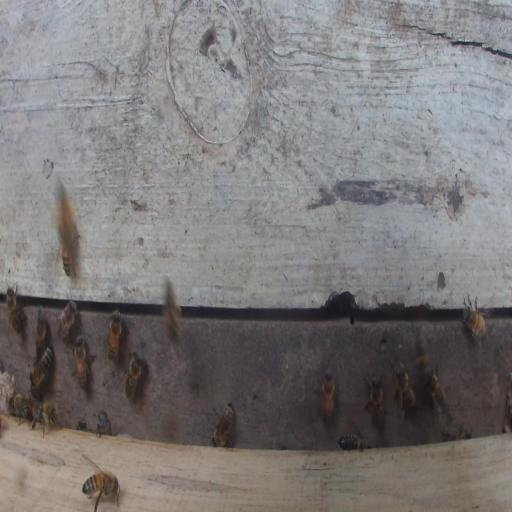nonpollenbee: (81, 469, 120, 510), (462, 294, 490, 347), (424, 368, 451, 422), (56, 184, 79, 245), (392, 359, 417, 414), (162, 275, 181, 341), (315, 368, 336, 426), (71, 335, 92, 391), (29, 346, 54, 390), (5, 281, 25, 336), (211, 401, 234, 448), (29, 401, 58, 438), (55, 299, 78, 344), (364, 376, 386, 422), (414, 326, 431, 379), (10, 392, 34, 426), (125, 351, 142, 398), (107, 312, 122, 360), (35, 308, 48, 357), (337, 434, 365, 450), (61, 244, 74, 278), (96, 411, 111, 438)
